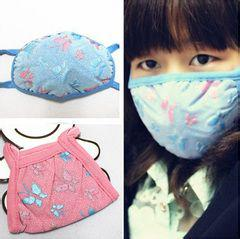OK: (134, 44, 236, 146)
